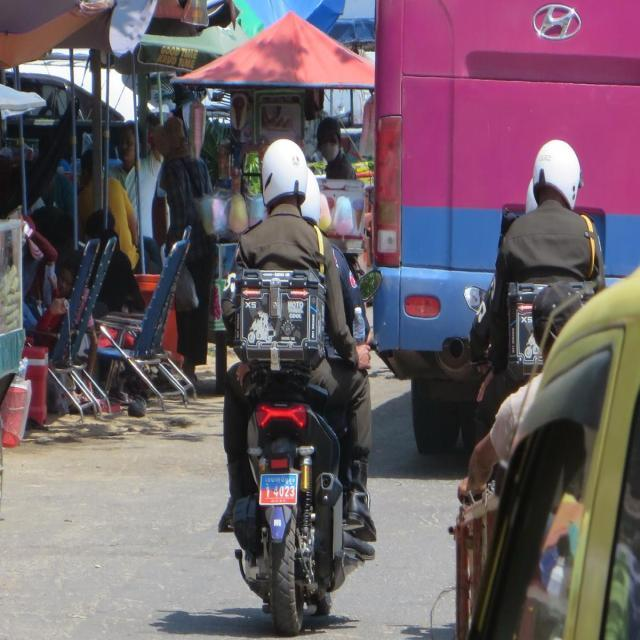RCAF: (265, 475, 289, 485)
